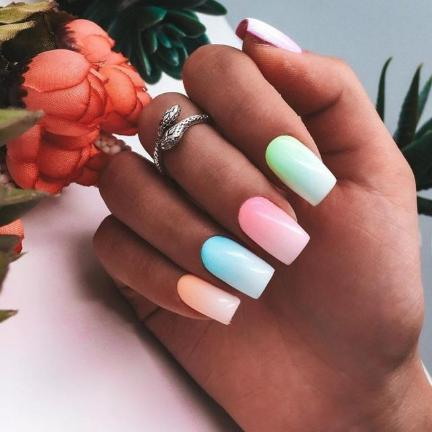Nail: (265, 135, 337, 207), (238, 197, 310, 266), (200, 236, 275, 300), (177, 275, 241, 325), (246, 18, 303, 52)
